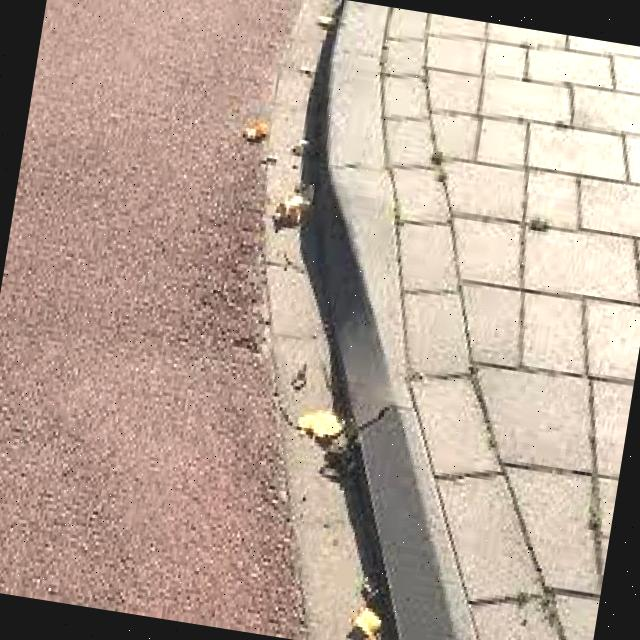curb: (312, 430, 502, 640), (269, 223, 444, 445), (272, 1, 407, 214)
